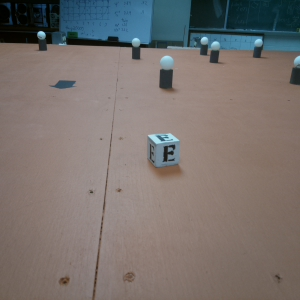blockE: (147, 131, 181, 168)
obstacle: (157, 54, 176, 91), (286, 56, 300, 88), (36, 31, 50, 54), (130, 39, 142, 63), (209, 42, 221, 63), (253, 39, 264, 59), (199, 36, 208, 55)
start: (49, 76, 77, 93)
